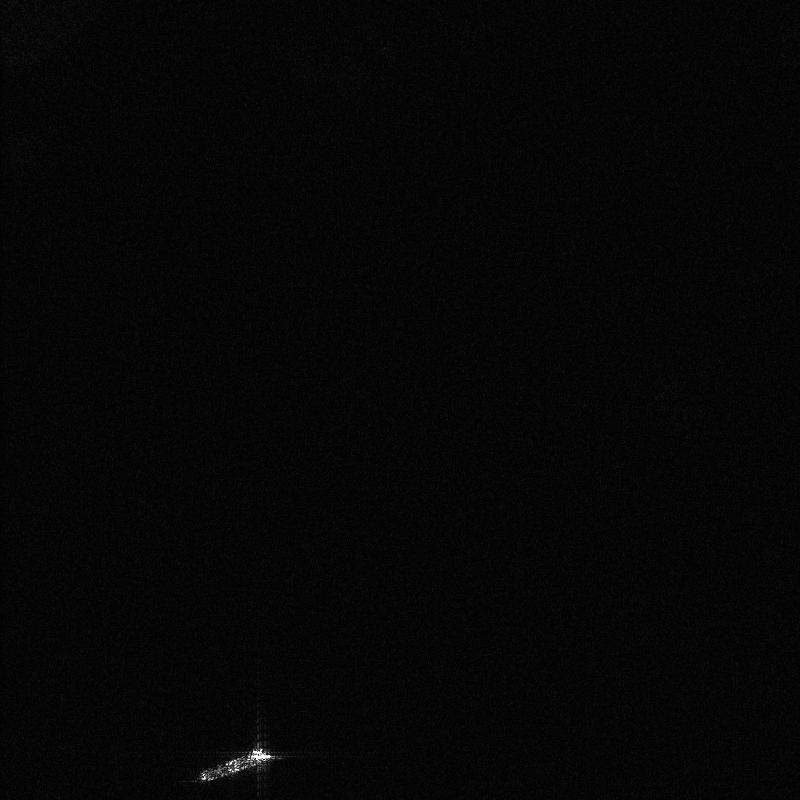ship: (197, 747, 272, 782)
